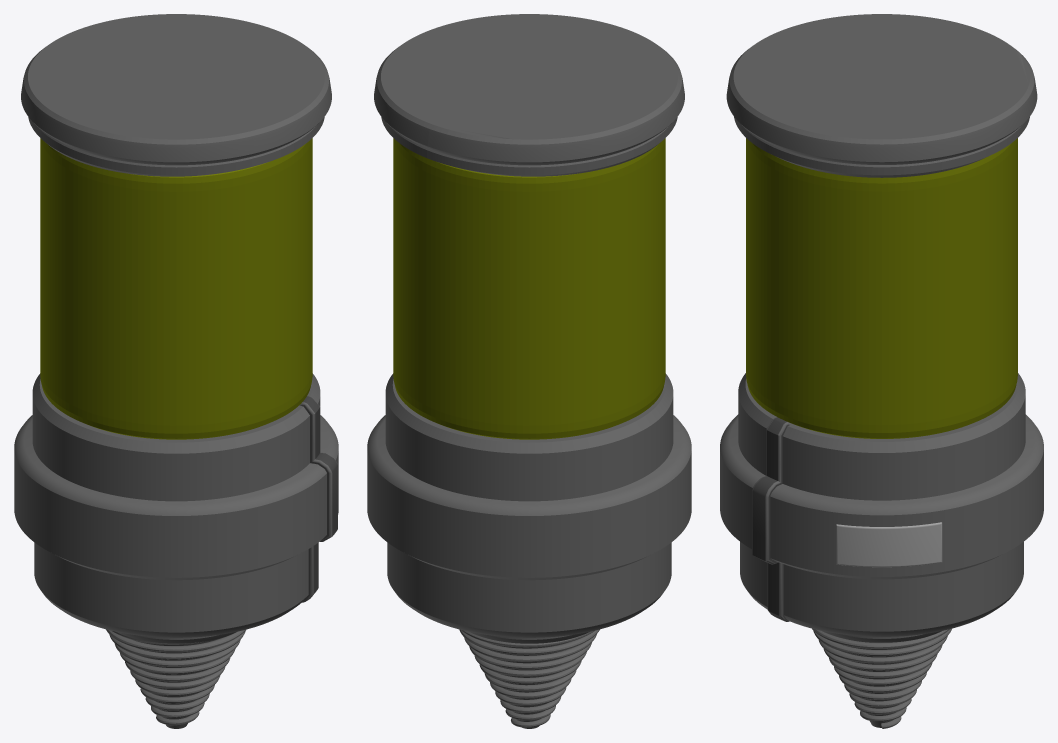
File: Battery.fbx
The picture shows the model from 3 angles, left to right: view 1: azimuth 30°, elevation 25°; view 2: azimuth 150°, elevation 25°; view 3: azimuth 270°, elevation 25°; orthographic projection.
Visible parts, largest first — view 1: Cylinder, Cylinder.001; view 2: Cylinder, Cylinder.001; view 3: Cylinder, Cylinder.001.
Boxes of the visible parts, bbox=[...] form: Cylinder: bbox=[14, 14, 338, 728]; Cylinder.001: bbox=[40, 138, 312, 439]; Cylinder: bbox=[367, 14, 691, 728]; Cylinder.001: bbox=[393, 138, 665, 439]; Cylinder: bbox=[720, 14, 1043, 728]; Cylinder.001: bbox=[746, 138, 1017, 438].
Size of the model in its own units: 114 by 251 by 114.
